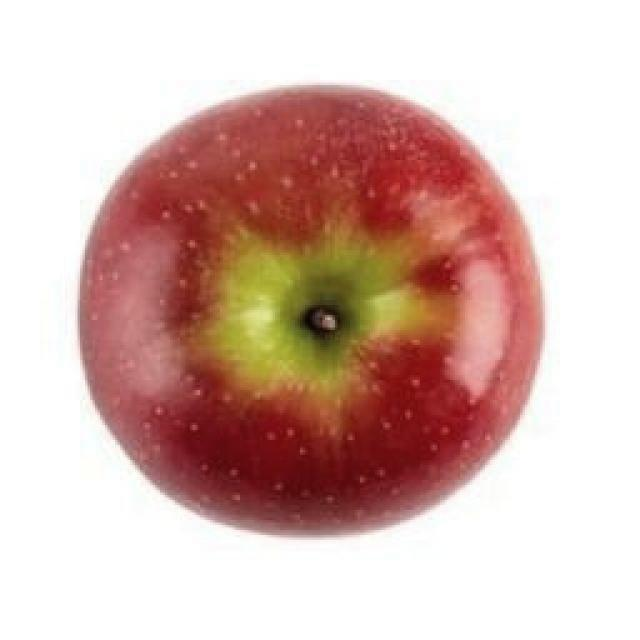Apple: (80, 88, 542, 534)
